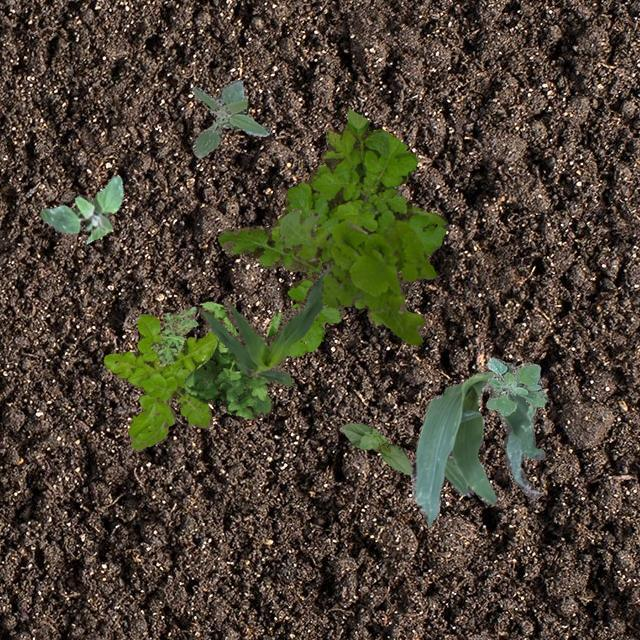crop: (410, 362, 544, 526), (200, 260, 330, 386), (338, 422, 412, 474)
weed: (217, 107, 448, 356), (278, 206, 434, 344), (102, 312, 218, 450), (178, 301, 282, 418), (192, 78, 268, 156), (39, 175, 122, 242), (486, 356, 546, 414), (150, 306, 197, 366)
